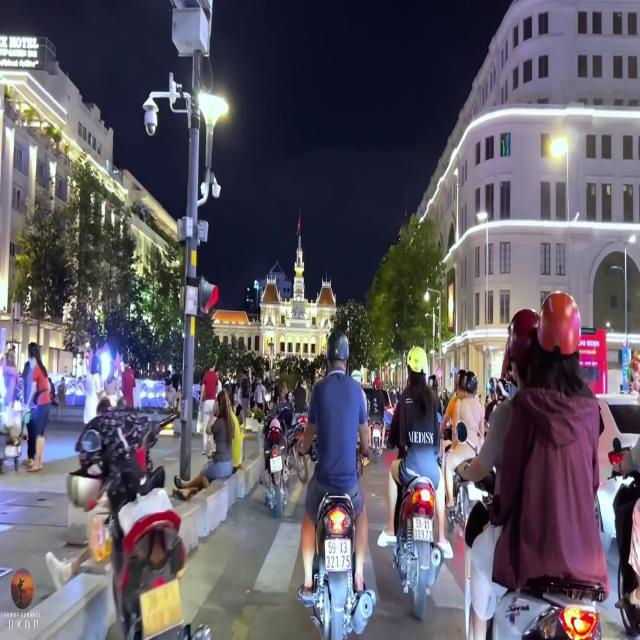bien_trang: (321, 536, 354, 578), (410, 518, 434, 539)
